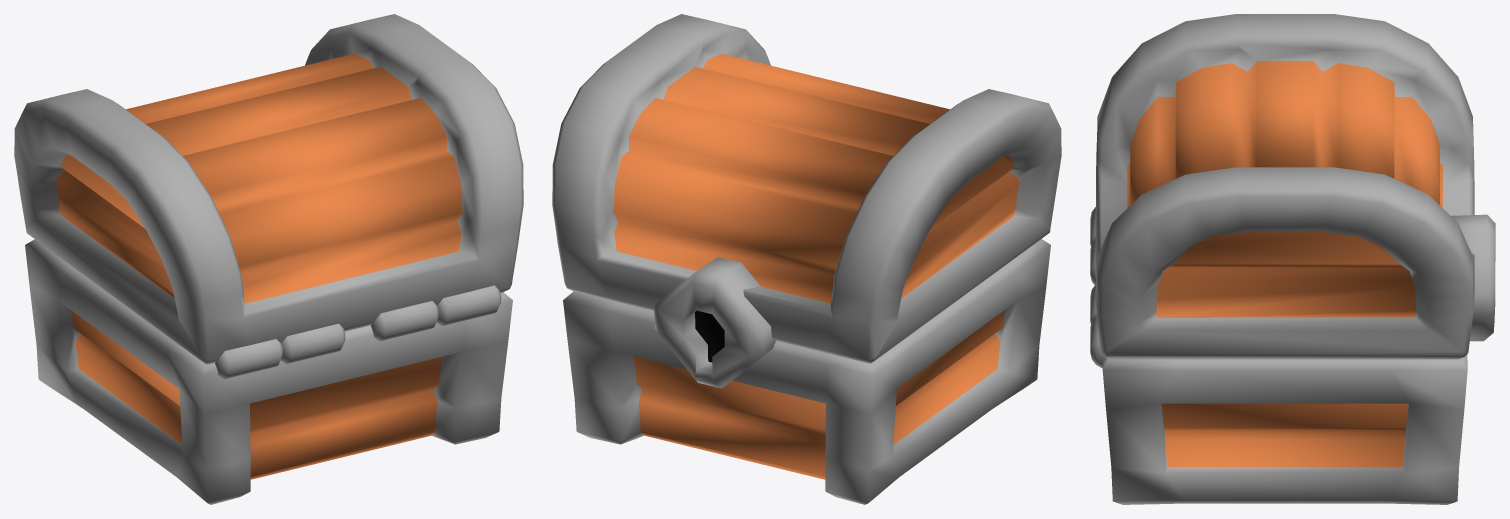
File: chest_airdrop_test.glb
3 views of the same model, side by side, from view 1: azimuth 30°, elevation 25°; view 2: azimuth 150°, elevation 25°; view 3: azimuth 270°, elevation 25° (orthographic). The views are drawn at different scales.
Visible parts, largest first — view 1: chest_lid, chest_base; view 2: chest_lid, chest_base; view 3: chest_lid, chest_base.
Boxes of the visible parts, x1=… form: chest_lid: x1=14, y1=14, x2=523, y2=379; chest_base: x1=25, y1=239, x2=512, y2=504; chest_lid: x1=552, y1=14, x2=1061, y2=388; chest_base: x1=563, y1=239, x2=1050, y2=504; chest_lid: x1=1090, y1=14, x2=1495, y2=368; chest_base: x1=1102, y1=354, x2=1467, y2=504.
Size of the model in its own units: 2.31 by 2.01 by 2.2.
